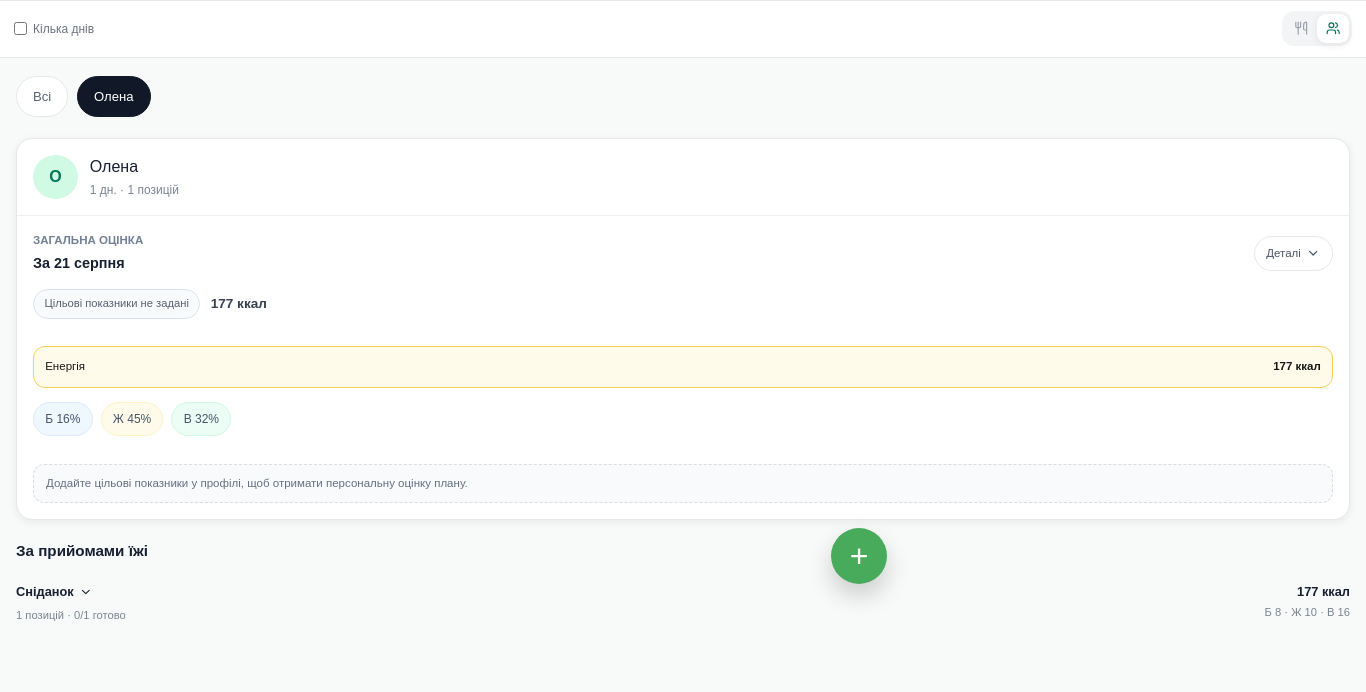
Test: MealPlanScreen › expands a member meal and renders personalized food information
The image size is (1366, 692).
(page scrolled)
Click the button "Сніданок 1 позицій · 0/1 готово 177 ккал Б 8 · Ж 10 · В 16". click: (45, 592)
box: [16, 576, 1350, 628]
(page scrolled)
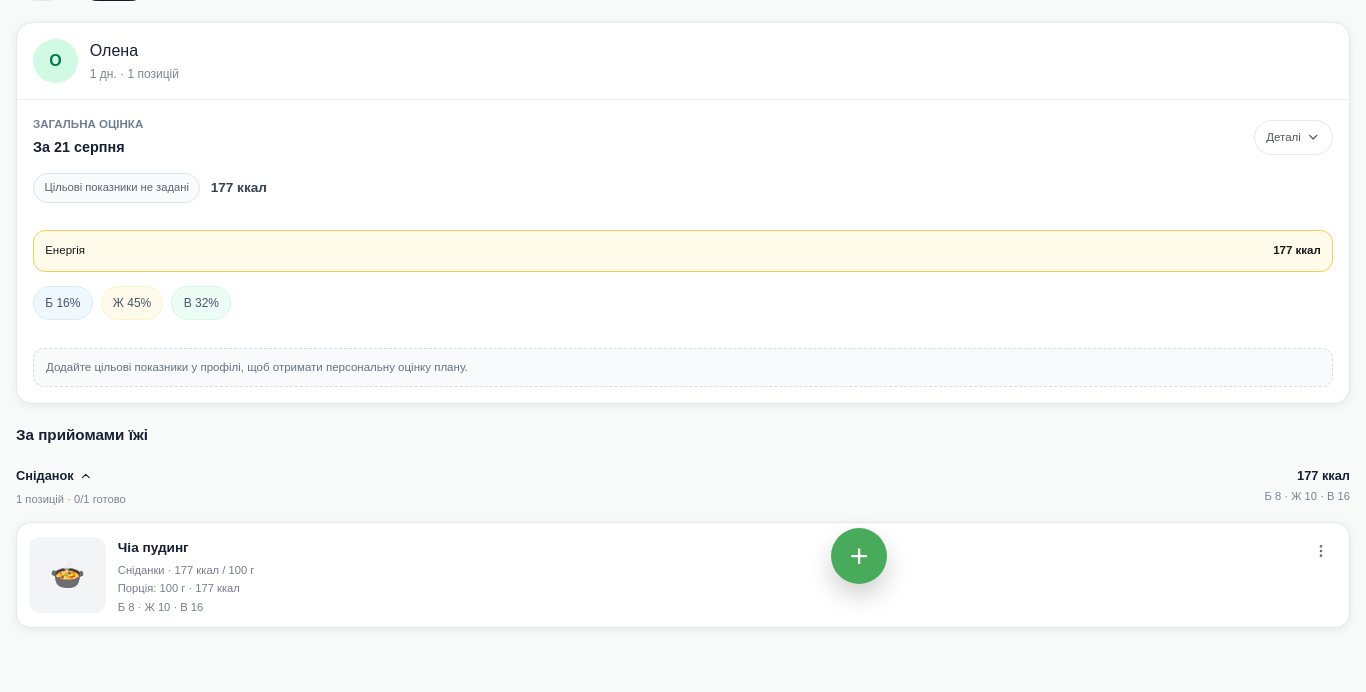
Now the text "Чіа пудинг" is shown, box [118, 540, 189, 555]
Now the text "Сніданки · 177 ккал / 100 г" is shown, box [118, 564, 254, 576]
Now the text "Порція: 100 г · 177 ккал" is shown, box [118, 582, 240, 594]
